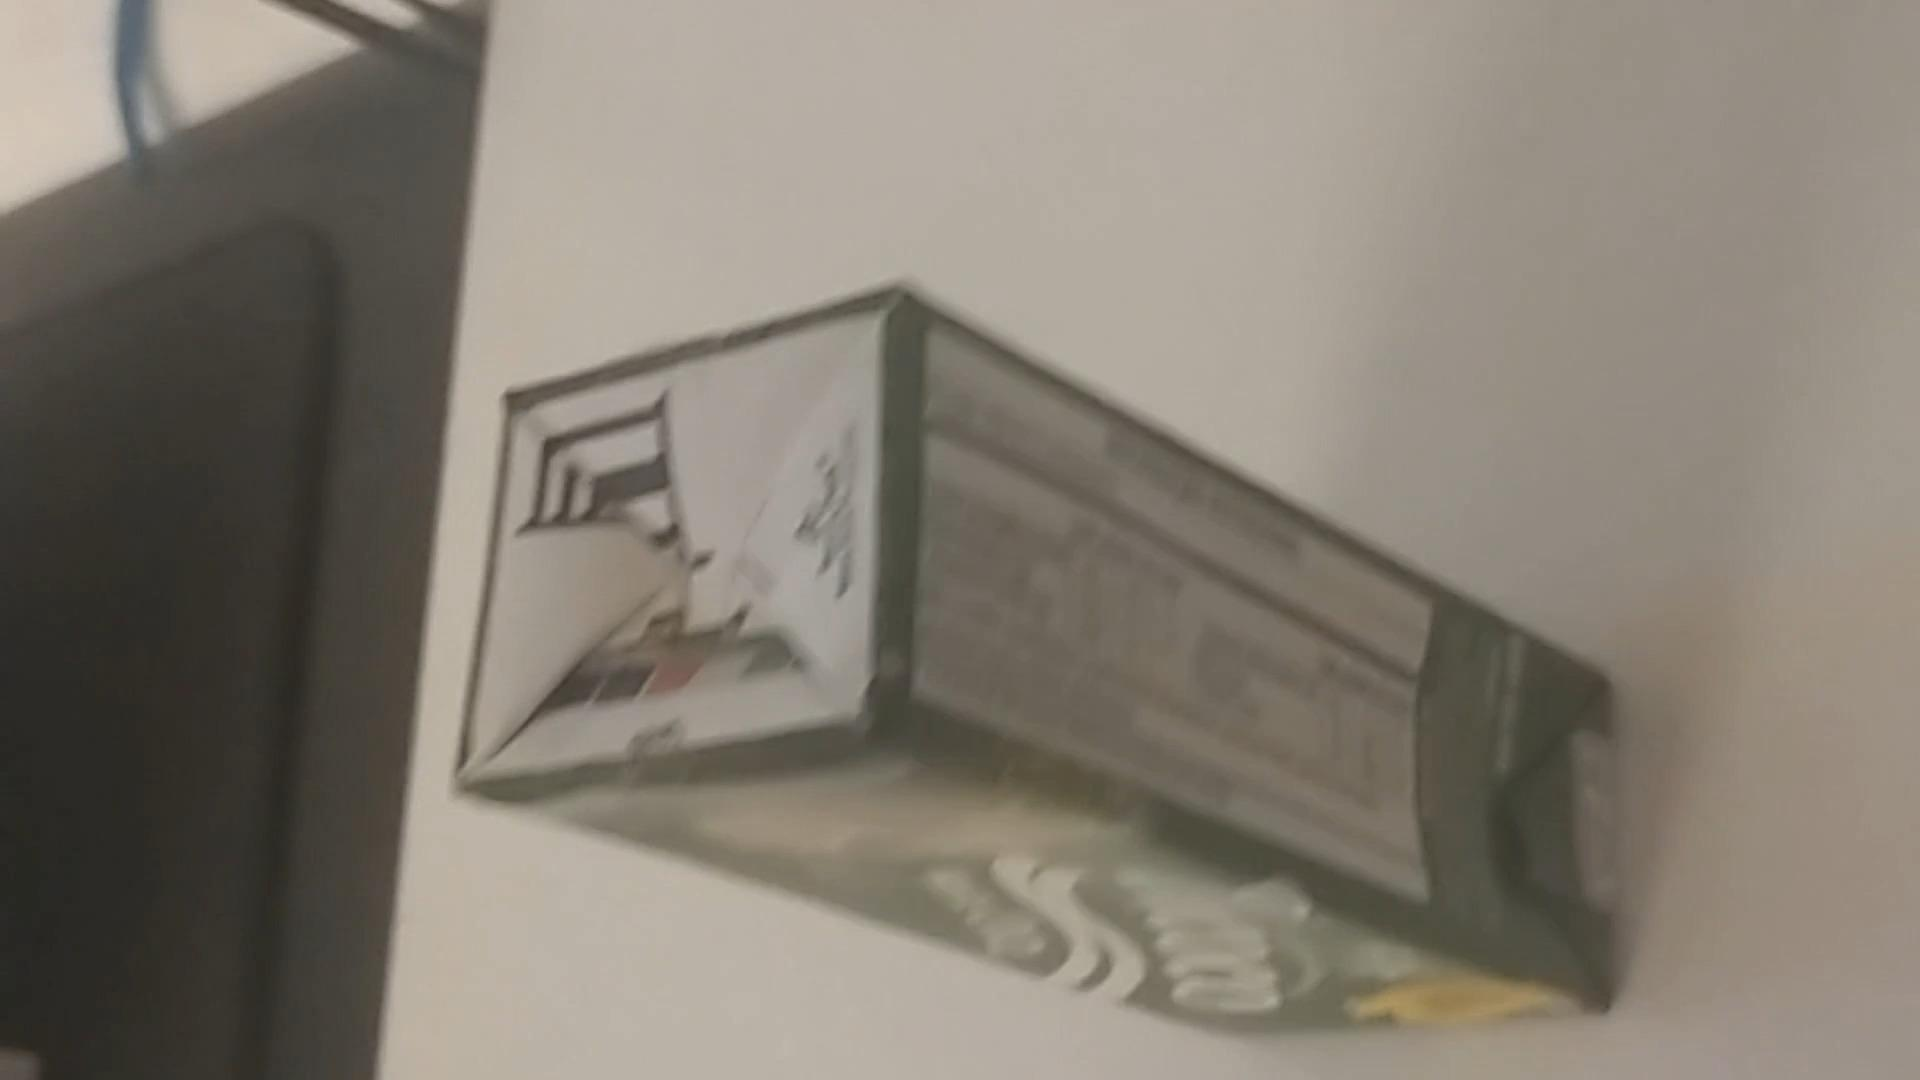coco: (425, 270, 1643, 1038)
